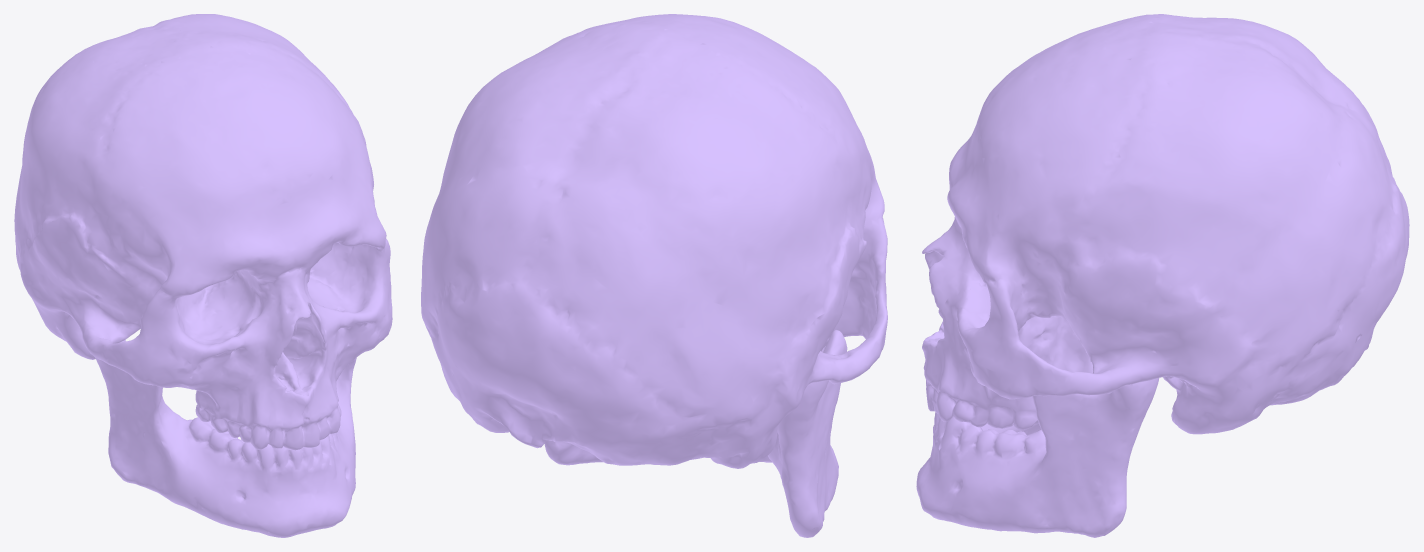
Rendered from kelle.gltf.
3 views of the same model, side by side, from view 1: azimuth 30°, elevation 25°; view 2: azimuth 150°, elevation 25°; view 3: azimuth 270°, elevation 25° (orthographic). The views are drawn at different scales.
Parts seen in each view (by area): view 1: test; view 2: test; view 3: test.
Boxes of the visible parts, x1=… form: test: x1=14, y1=14, x2=392, y2=537; test: x1=421, y1=14, x2=887, y2=537; test: x1=916, y1=14, x2=1409, y2=537.
Bounding box in the file's own units: 47.54 × 60.96 × 58.04.
